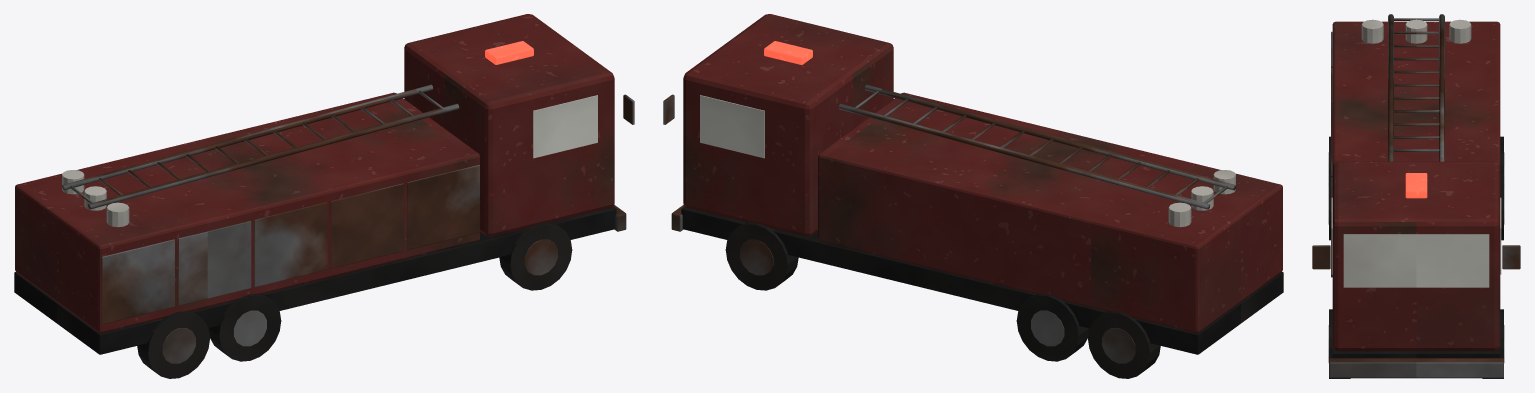
File: V02_old_fire_truck.glb
3 views of the same model, side by side, from view 1: azimuth 30°, elevation 25°; view 2: azimuth 150°, elevation 25°; view 3: azimuth 270°, elevation 25° (orthographic). The views are drawn at different scales.
Parts seen in each view (by area): view 1: V02_old_fire_truck; view 2: V02_old_fire_truck; view 3: V02_old_fire_truck.
Part boxes in pixels (box(x1,y1,x2,y2)): V02_old_fire_truck: box(14, 14, 634, 378); V02_old_fire_truck: box(663, 14, 1283, 378); V02_old_fire_truck: box(1312, 14, 1520, 378).
Bounding box in the file's own units: 8 × 2.98 × 2.81.
Materials: 7 (7 with a texture image).
